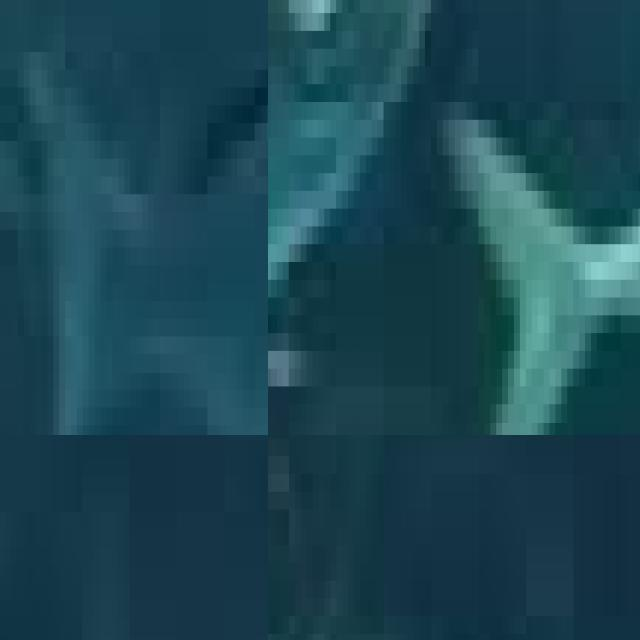fish: (0, 0, 268, 435), (268, 0, 478, 435)
